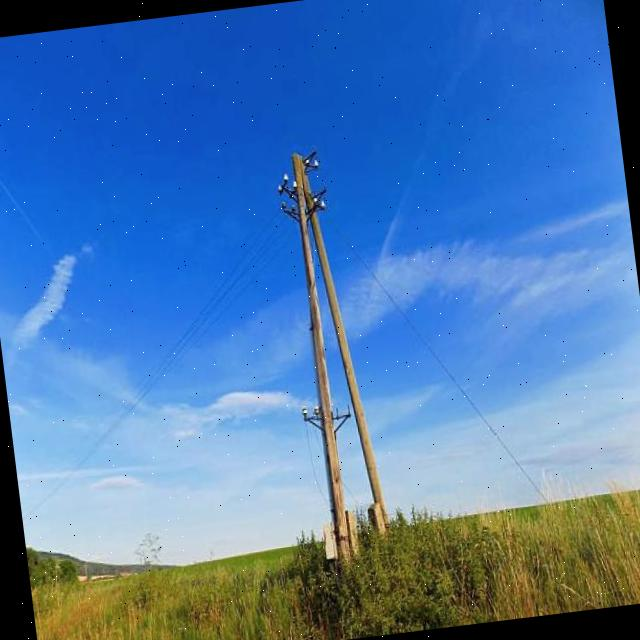Broken Pole: (298, 156, 399, 533)
